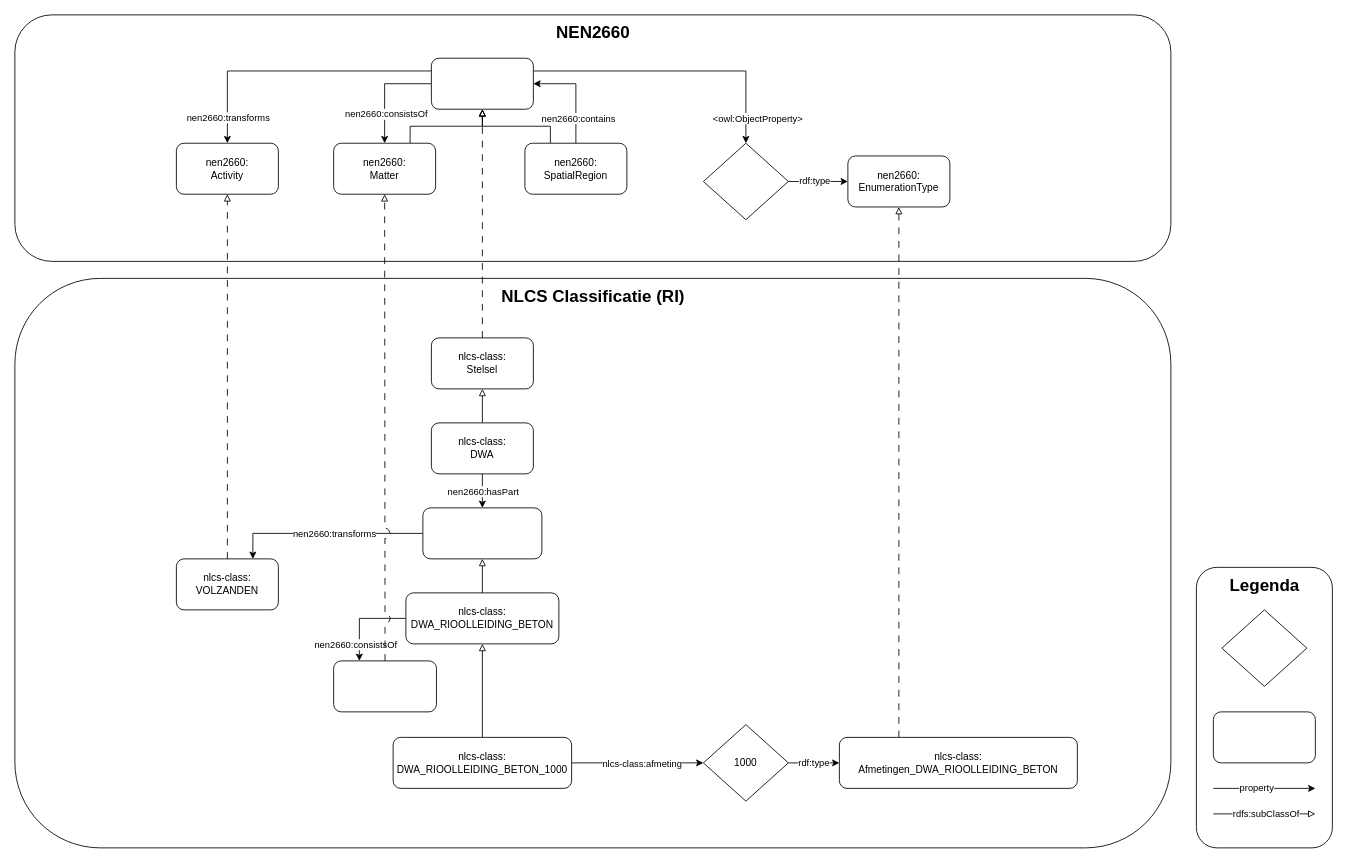
The diagram is 1347 pixels wide and 863 high, and some of its shapes have lost their labels. Here are the shapes that lost their labels. From the top down, the centre of each, then its label:
At (482,83): "nen2660: RealObject".
At (745,181): "<enumeration>".
At (482,533): "nlcs-class: DWA_RIOOLLEIDING".
At (1264,647): "Individual".
At (384,686): "nlcs-class: BETON".
At (1264,737): "Class".
